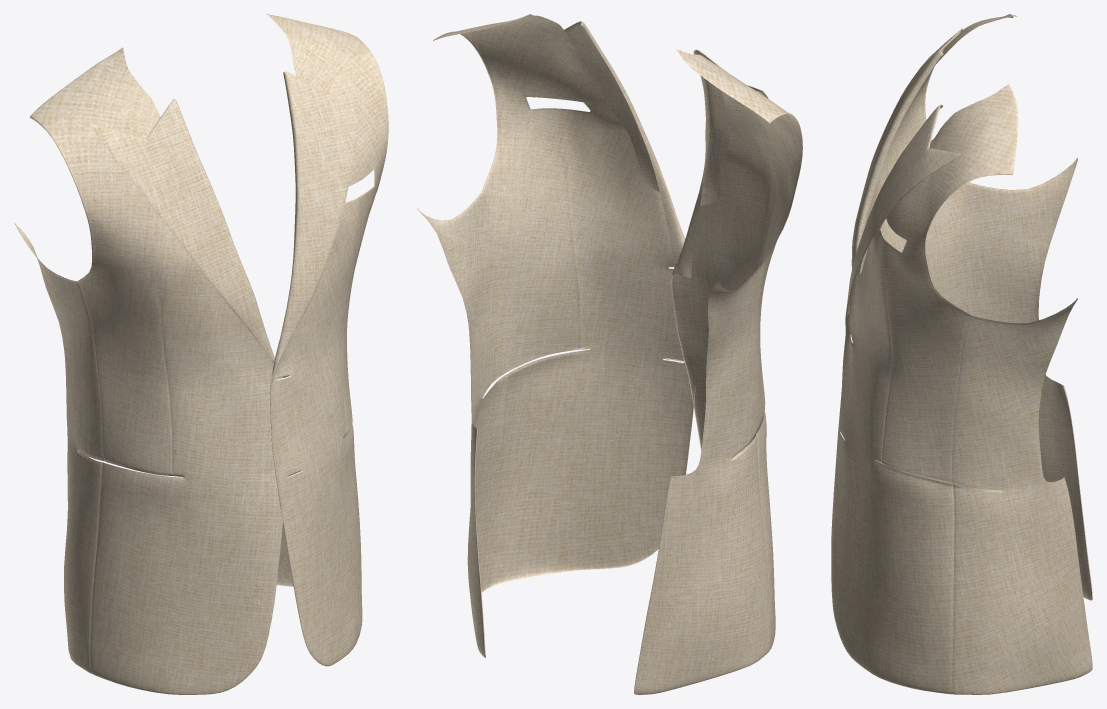
File: peak_double_button.glb
3 renders of one model, left to right at view 1: azimuth 30°, elevation 25°; view 2: azimuth 150°, elevation 25°; view 3: azimuth 270°, elevation 25°, orthographic. The views are drawn at different scales.
Visible parts, largest first — view 1: peak_double_button1; view 2: peak_double_button1; view 3: peak_double_button1.
Boxes of the visible parts, x1=… form: peak_double_button1: x1=15, y1=14, x2=388, y2=694; peak_double_button1: x1=417, y1=14, x2=802, y2=694; peak_double_button1: x1=831, y1=14, x2=1092, y2=694.
Size of the model in its own units: 0.0585 by 0.102 by 0.0411.
2 materials, 1 textured.
